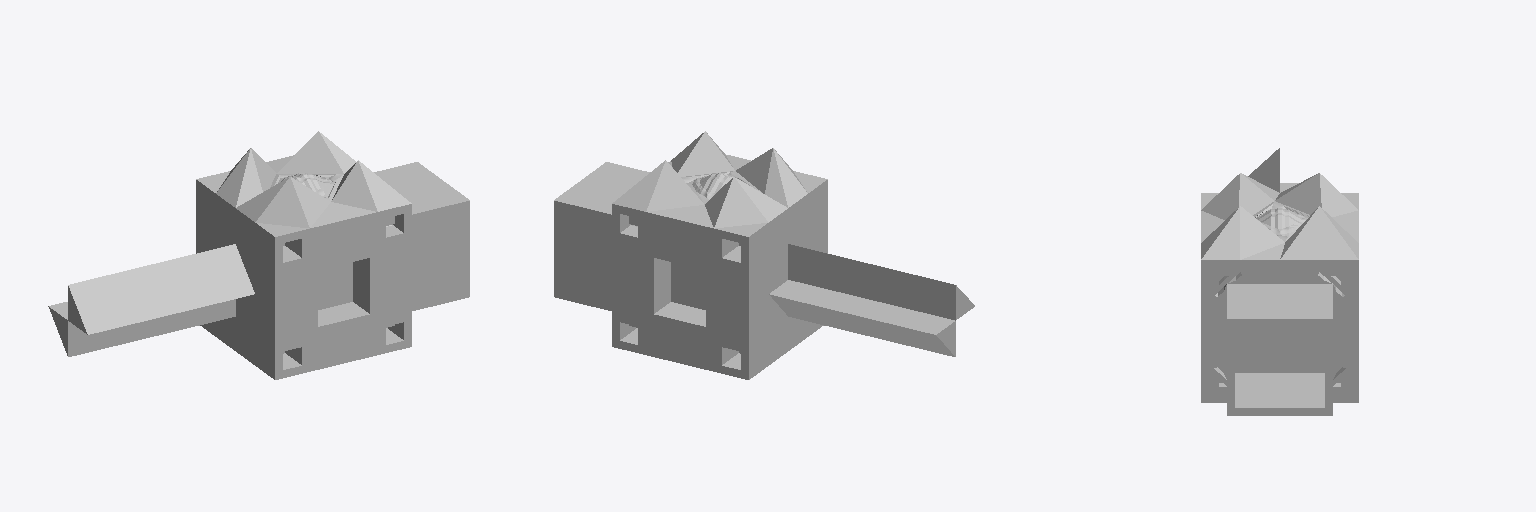
File: SampleTestCubeExperiment.obj
The picture shows the model from 3 angles: view 1: azimuth 30°, elevation 25°; view 2: azimuth 150°, elevation 25°; view 3: azimuth 270°, elevation 25°; orthographic projection.
Visible parts, largest first — view 1: BaseMesh_Cube.001; view 2: BaseMesh_Cube.001; view 3: BaseMesh_Cube.001.
Part boxes in pixels (x1,y1,x2,y2): BaseMesh_Cube.001: (48,131,469,379); BaseMesh_Cube.001: (554,131,974,379); BaseMesh_Cube.001: (1201,148,1358,415).
Bounding box in the file's own units: 5.49 × 2.53 × 2.